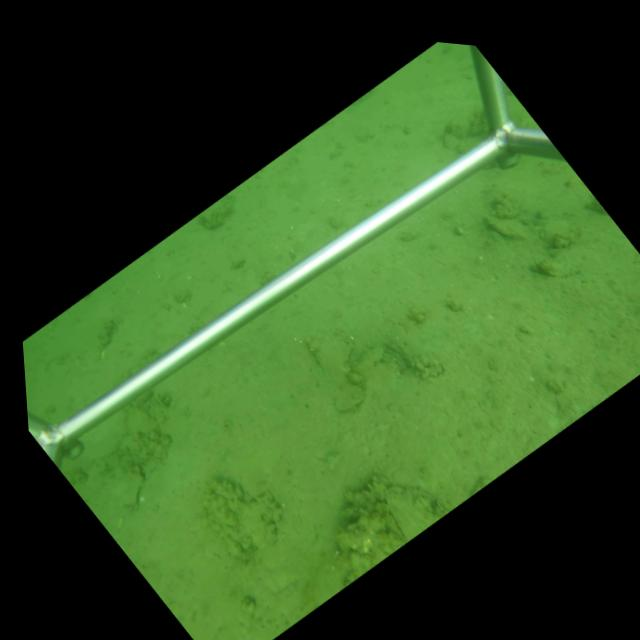Oyster-Closed: (481, 214, 531, 241)
Oyster-Indeterminate: (386, 483, 445, 542)
